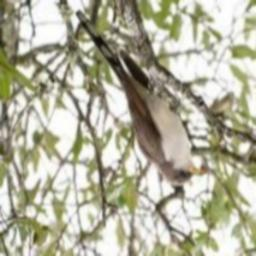Cuckoo: (75, 8, 202, 187)
